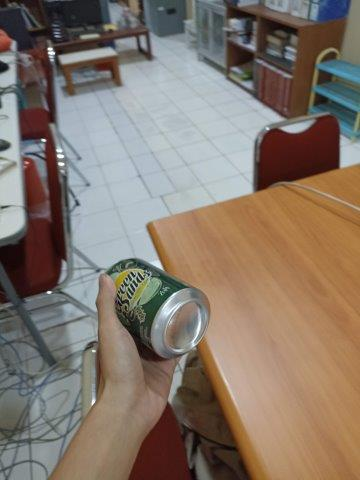kaleng: (106, 258, 211, 360)
